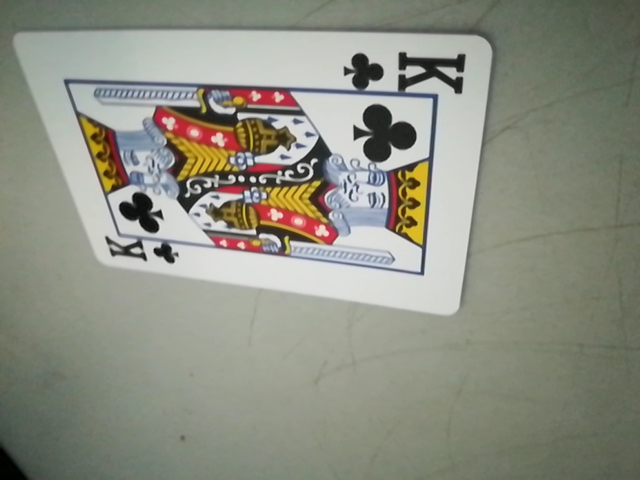mh k: (341, 46, 470, 98), (101, 233, 183, 269)
